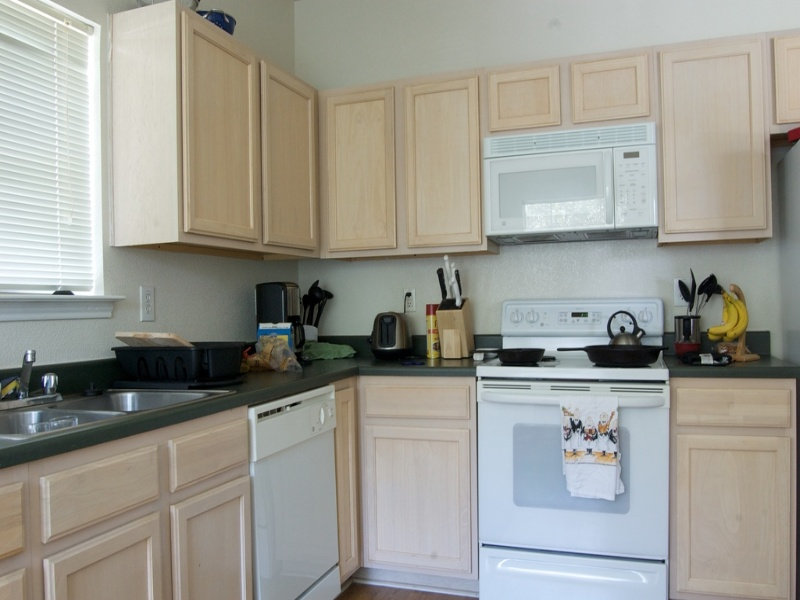banana: (705, 286, 751, 346)
oven: (474, 360, 670, 600)
